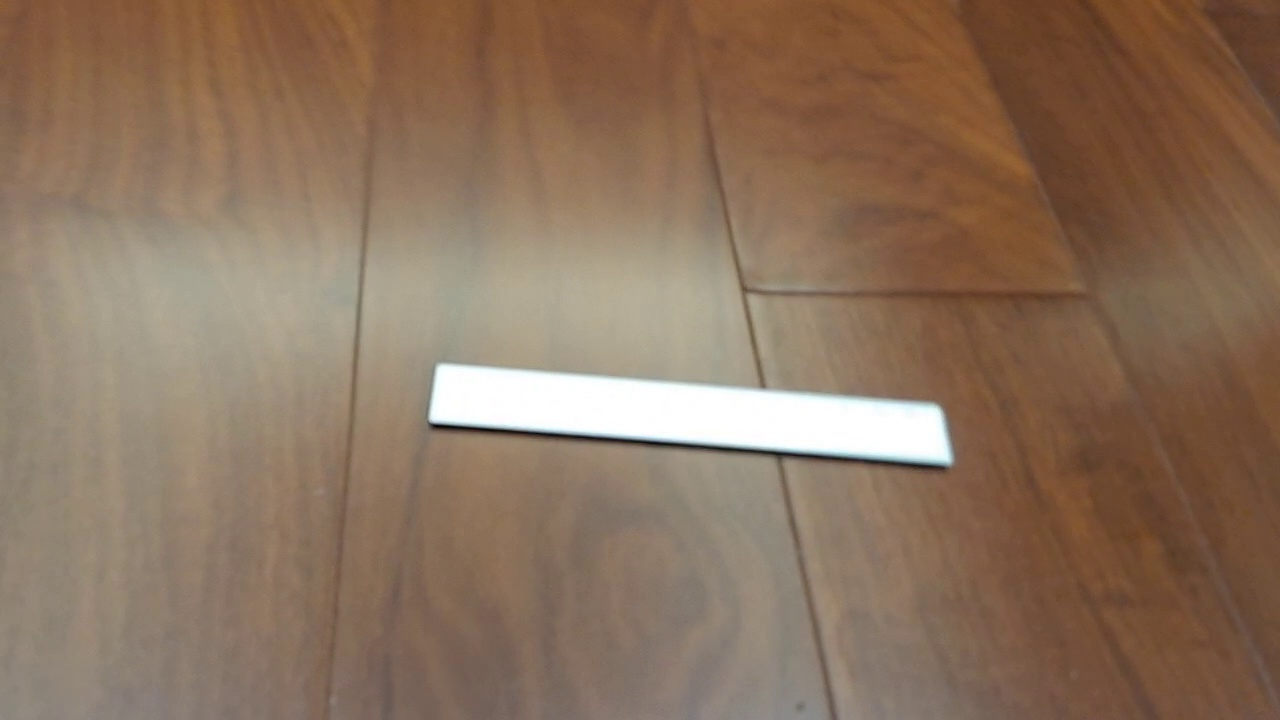ruler: (425, 359, 956, 472)
